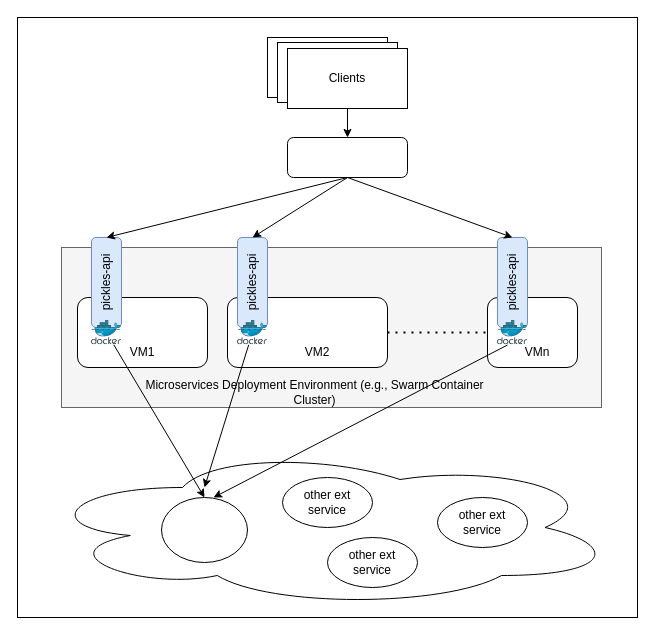
The diagram is 655 pixels wide and 635 high, and some of its shapes have lost their labels. Each missing label, with the box of its shape:
Load Balancer: (286, 136, 408, 178)
Mailing Service (e.g., sendinblue): (160, 496, 248, 562)
